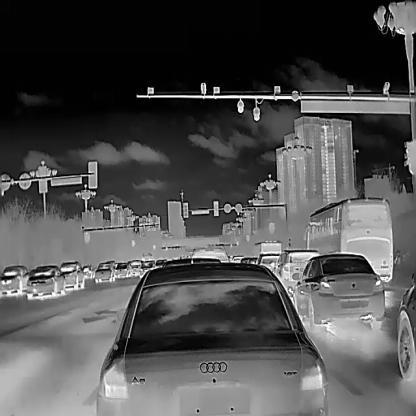car: (92, 259, 329, 416), (299, 197, 391, 285), (291, 252, 384, 329), (268, 249, 322, 293), (397, 271, 416, 382), (26, 260, 67, 297), (0, 264, 29, 294), (59, 258, 85, 290), (250, 251, 284, 274), (253, 238, 282, 263), (192, 246, 229, 261), (94, 260, 115, 282), (139, 258, 156, 278), (114, 260, 129, 277), (81, 262, 96, 278), (128, 258, 142, 274), (241, 256, 256, 263), (232, 255, 242, 263)
